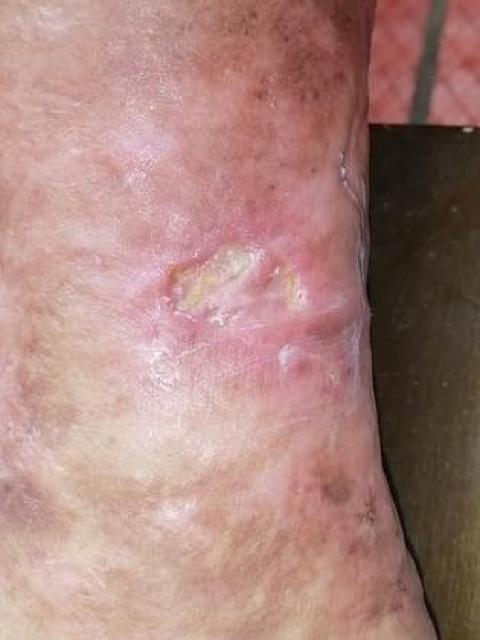wound: (168, 239, 260, 325), (260, 261, 318, 317)
